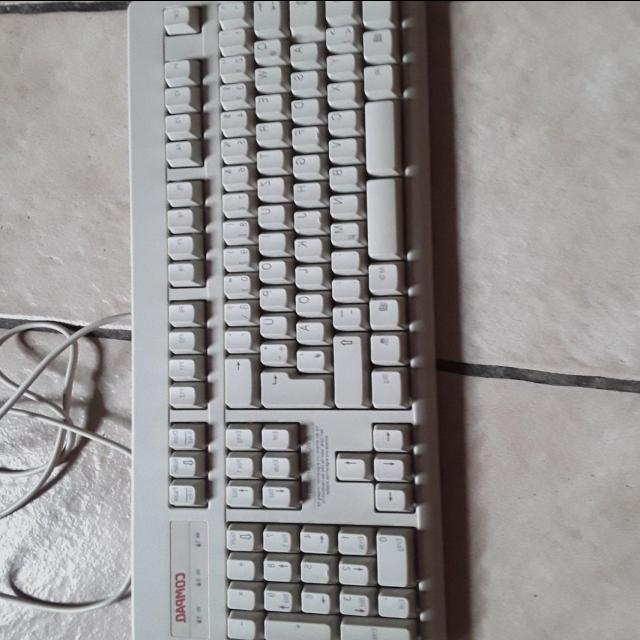0: (221, 272, 251, 296)
1: (215, 26, 245, 49)
2: (216, 53, 246, 81)
3: (216, 80, 246, 106)
4: (217, 109, 247, 131)
5: (218, 136, 247, 161)
6: (219, 163, 248, 187)
7: (219, 190, 248, 216)
8: (219, 218, 249, 244)
9: (220, 245, 250, 270)
a: (287, 41, 317, 67)
accent: (222, 327, 251, 350)
ae: (293, 319, 323, 343)
alt-left: (360, 62, 393, 98)
altgr-right: (365, 261, 397, 293)
b: (327, 164, 357, 189)
c: (325, 108, 356, 134)
caret: (215, 0, 245, 22)
comma: (328, 248, 359, 272)
d: (289, 97, 319, 123)
del: (221, 355, 251, 406)
e: (253, 92, 281, 116)
enter: (258, 367, 325, 406)
f: (289, 125, 319, 150)
g: (290, 152, 320, 177)
h: (290, 180, 320, 205)
hash: (294, 347, 324, 371)
i: (255, 231, 284, 254)
j: (291, 208, 321, 232)
k: (291, 236, 321, 260)
keyboard: (126, 0, 449, 640)
l: (293, 264, 322, 286)
less: (323, 23, 355, 50)
m: (328, 220, 359, 245)
minus: (330, 304, 360, 328)
n: (327, 192, 357, 217)
o: (256, 258, 286, 281)
oe: (293, 291, 323, 315)
p: (257, 286, 286, 308)
plus: (257, 341, 287, 363)
point: (329, 277, 359, 301)
q: (251, 36, 281, 62)
r: (253, 120, 282, 145)
s: (287, 69, 317, 91)
shift-left: (322, 0, 352, 18)
shift-lock: (286, 0, 318, 37)
shift-right: (331, 333, 361, 406)
space: (363, 177, 396, 257), (362, 99, 394, 173)
ss: (221, 299, 251, 323)
strg-left: (359, 1, 392, 27)
strg-right: (369, 366, 402, 408)
t: (254, 148, 283, 170)
tab: (251, 1, 280, 35)
u: (255, 203, 284, 227)
ue: (257, 313, 287, 336)
v: (326, 136, 357, 162)
w: (252, 64, 281, 89)
x: (325, 80, 356, 106)
y: (324, 52, 355, 78)
z: (254, 175, 284, 199)
